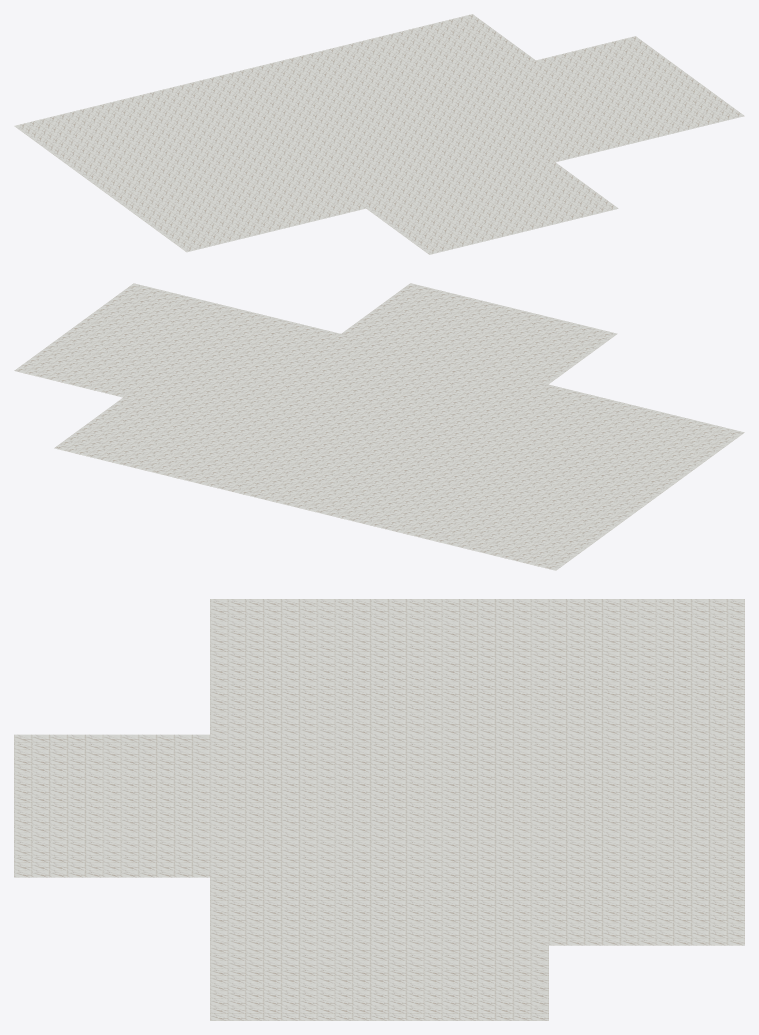
The model's file is floor.glb.
3 views of the same model, one above another, from view 1: azimuth 30°, elevation 25°; view 2: azimuth 150°, elevation 25°; view 3: azimuth 270°, elevation 25° (orthographic). The views are drawn at different scales.
Parts seen in each view (by area): view 1: piso; view 2: piso; view 3: piso.
Boxes of the visible parts, bbox=[...] form: piso: bbox=[14, 14, 744, 254]; piso: bbox=[14, 283, 744, 570]; piso: bbox=[14, 599, 744, 1020].
Bounding box in the file's own units: 31.36 × 0 × 22.96.
Materials: 1 (1 with a texture image).
